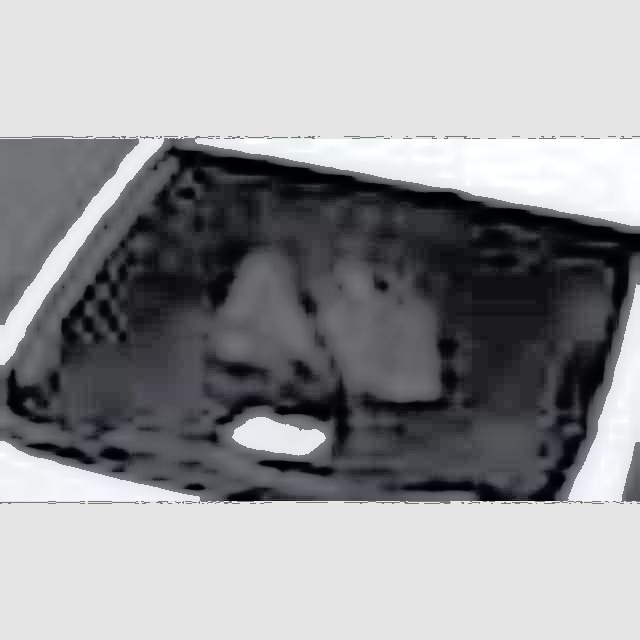pakai: (219, 240, 429, 408)
